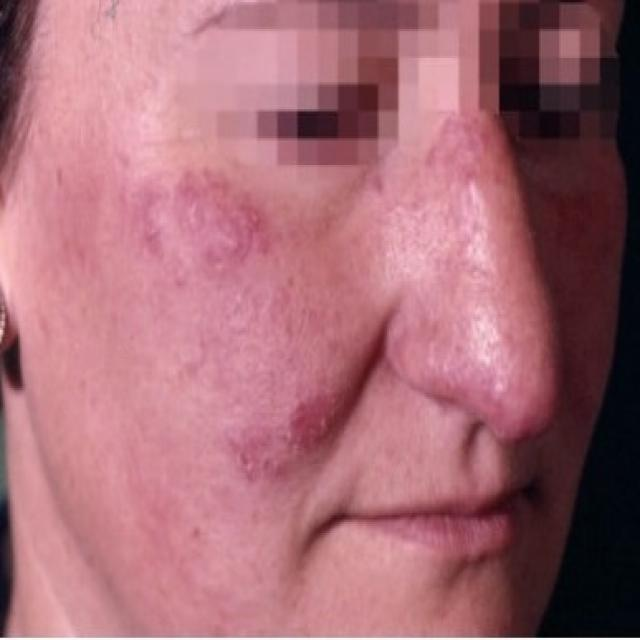Rosacea: (46, 157, 338, 474), (381, 116, 559, 442)
